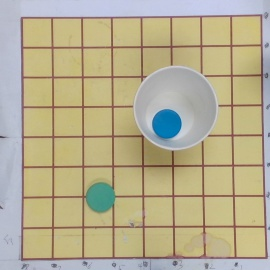cup_blue: (131, 66, 218, 152)
green: (86, 181, 115, 211)
